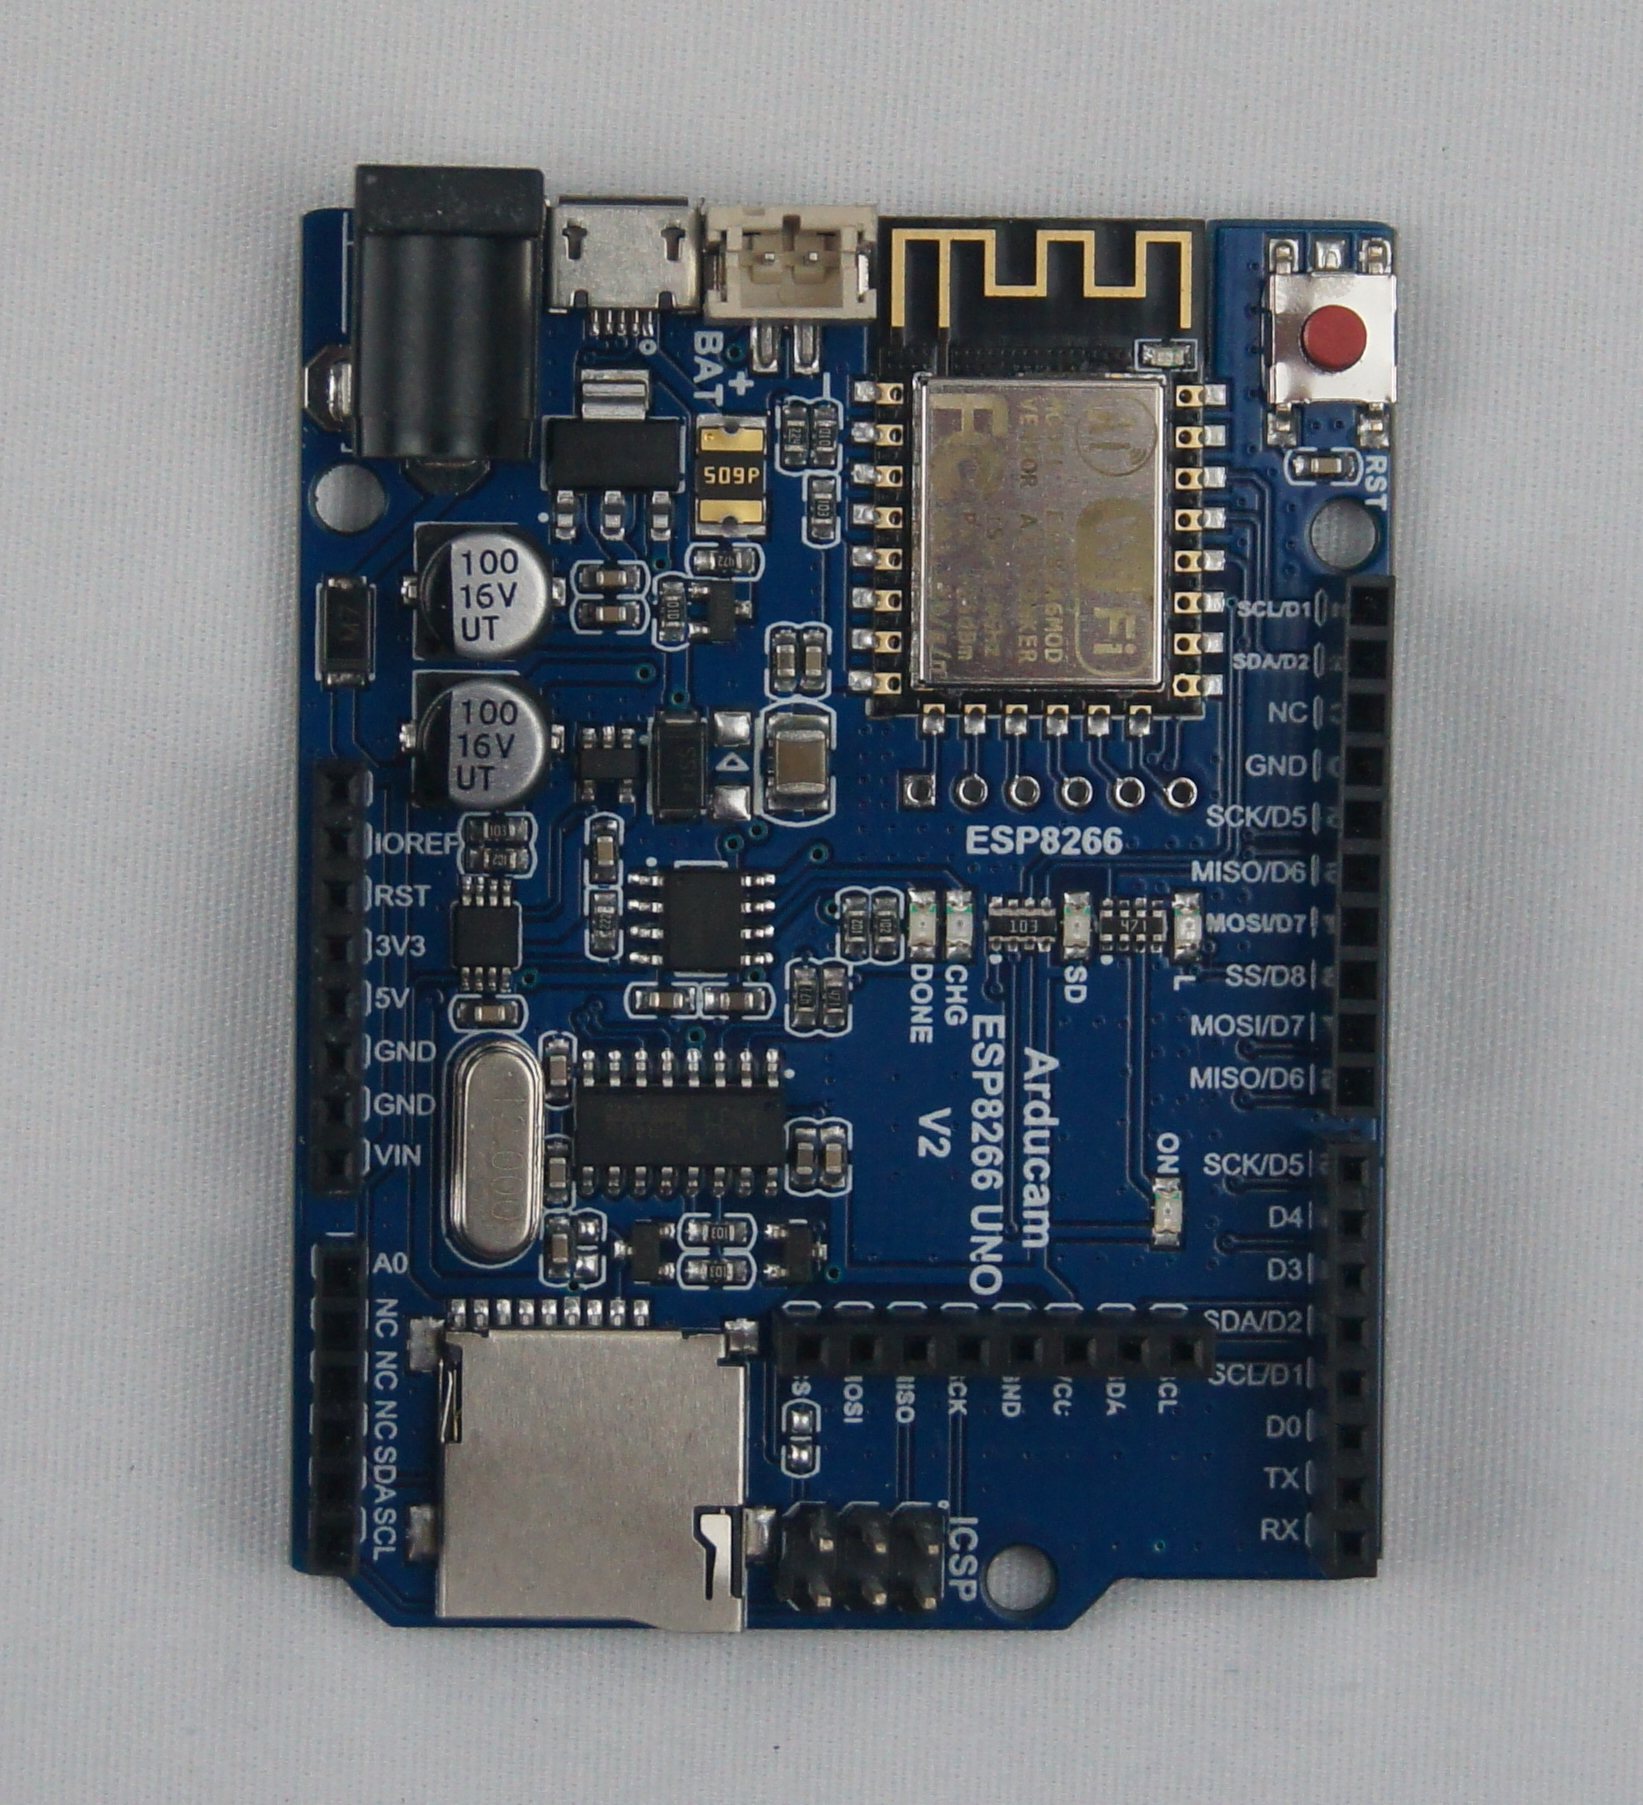kondensator: (402, 524, 552, 656), (404, 675, 536, 799), (695, 414, 769, 530), (764, 712, 827, 807), (814, 1127, 847, 1189), (800, 630, 829, 693), (542, 1220, 571, 1277), (583, 566, 641, 593), (593, 827, 623, 877), (461, 995, 513, 1024), (549, 1035, 572, 1096), (546, 1138, 568, 1198), (585, 596, 634, 623), (1300, 450, 1349, 476), (794, 1127, 811, 1186), (769, 635, 792, 675)
